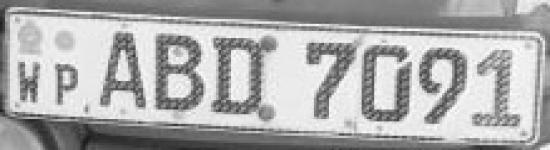0: (358, 36, 414, 130)
1: (472, 45, 528, 134)
7: (302, 38, 361, 122)
9: (418, 42, 471, 131)
A: (96, 24, 152, 119)
B: (150, 29, 210, 115)
D: (210, 34, 272, 119)
P: (53, 58, 80, 106)
W: (14, 56, 50, 106)
